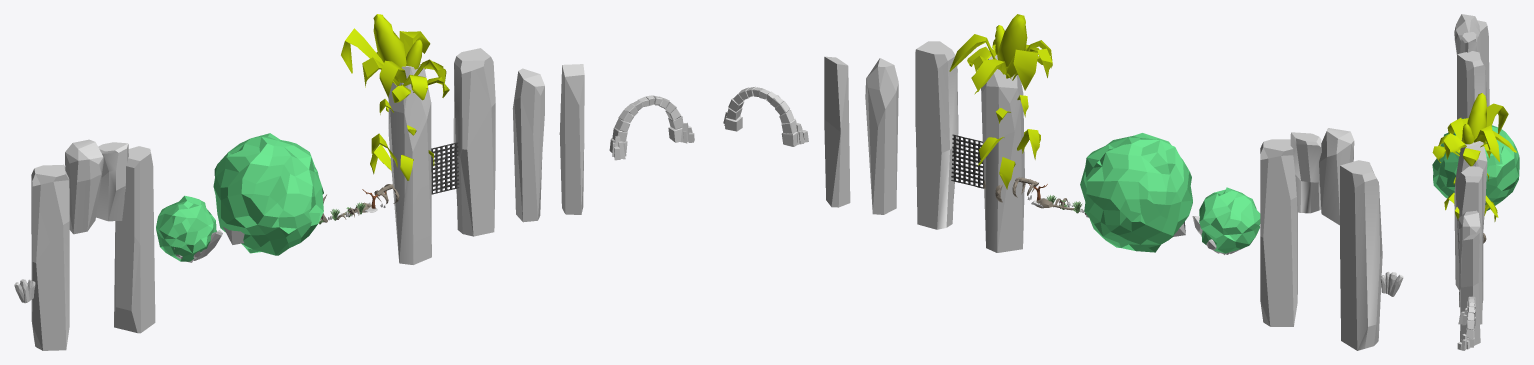
Rendered from items_for_map.fbx.
3 views of the same model, side by side, from view 1: azimuth 30°, elevation 25°; view 2: azimuth 150°, elevation 25°; view 3: azimuth 270°, elevation 25° (orthographic). The views are drawn at different scales.
Visible parts, largest first — view 1: Mountain_Salt_Archway, Bush_2, Mountain_Salt_3, Mountain_Salt_1, Corn, Mountain_Salt_2, Mountain_Salt_5, Bush_1, Salt_Zone_Archway, Cage; view 2: Mountain_Salt_Archway, Bush_2, Mountain_Salt_3, Mountain_Salt_1, Corn, Mountain_Salt_2, Mountain_Salt_5, Bush_1, Salt_Zone_Archway, Cage; view 3: Corn, Mountain_Salt_Archway, Bush_2, Mountain_Salt_5, Mountain_Salt_3, Mountain_Salt_1, Mountain_Salt_2, Salt_Zone_Archway.
Part boxes in pixels (x1,y1,x2,y2): Mountain_Salt_Archway: [31, 139, 155, 350]; Bush_2: [213, 133, 323, 255]; Mountain_Salt_3: [453, 48, 495, 236]; Mountain_Salt_1: [388, 64, 431, 264]; Corn: [341, 14, 449, 180]; Mountain_Salt_2: [512, 68, 544, 222]; Mountain_Salt_5: [559, 64, 584, 214]; Bush_1: [156, 195, 216, 261]; Salt_Zone_Archway: [609, 95, 694, 160]; Cage: [431, 142, 459, 194]; Mountain_Salt_Archway: [1260, 128, 1382, 350]; Bush_2: [1080, 133, 1192, 252]; Mountain_Salt_3: [915, 41, 958, 229]; Mountain_Salt_1: [981, 55, 1024, 252]; Corn: [949, 14, 1052, 189]; Mountain_Salt_2: [865, 58, 898, 214]; Mountain_Salt_5: [824, 56, 850, 207]; Bush_1: [1199, 187, 1260, 253]; Salt_Zone_Archway: [723, 86, 808, 146]; Cage: [951, 134, 983, 188]; Corn: [1432, 93, 1516, 221]; Mountain_Salt_Archway: [1454, 14, 1489, 119]; Bush_2: [1432, 125, 1519, 210]; Mountain_Salt_5: [1460, 233, 1480, 345]; Mountain_Salt_3: [1459, 166, 1483, 307]; Mountain_Salt_1: [1454, 138, 1487, 289]; Mountain_Salt_2: [1458, 210, 1482, 324]; Salt_Zone_Archway: [1457, 296, 1475, 350].
Bounding box in the file's own units: 79279 × 27542 × 11639.
